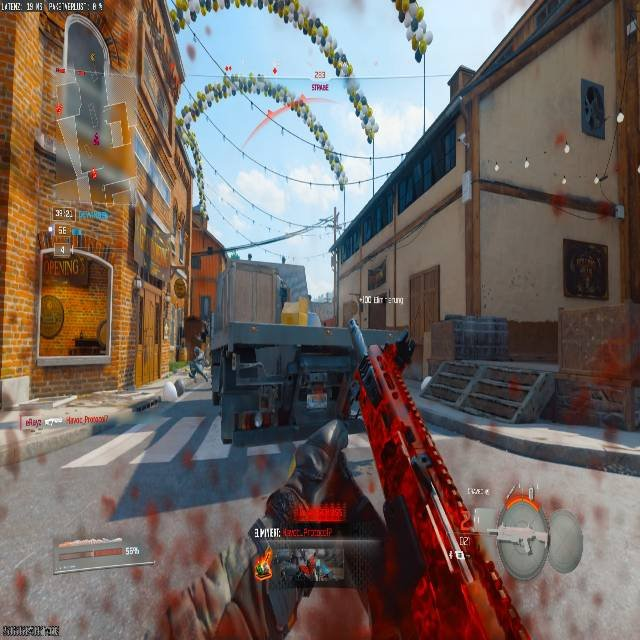player: (247, 421, 386, 639), (170, 311, 211, 399), (188, 347, 209, 383)
